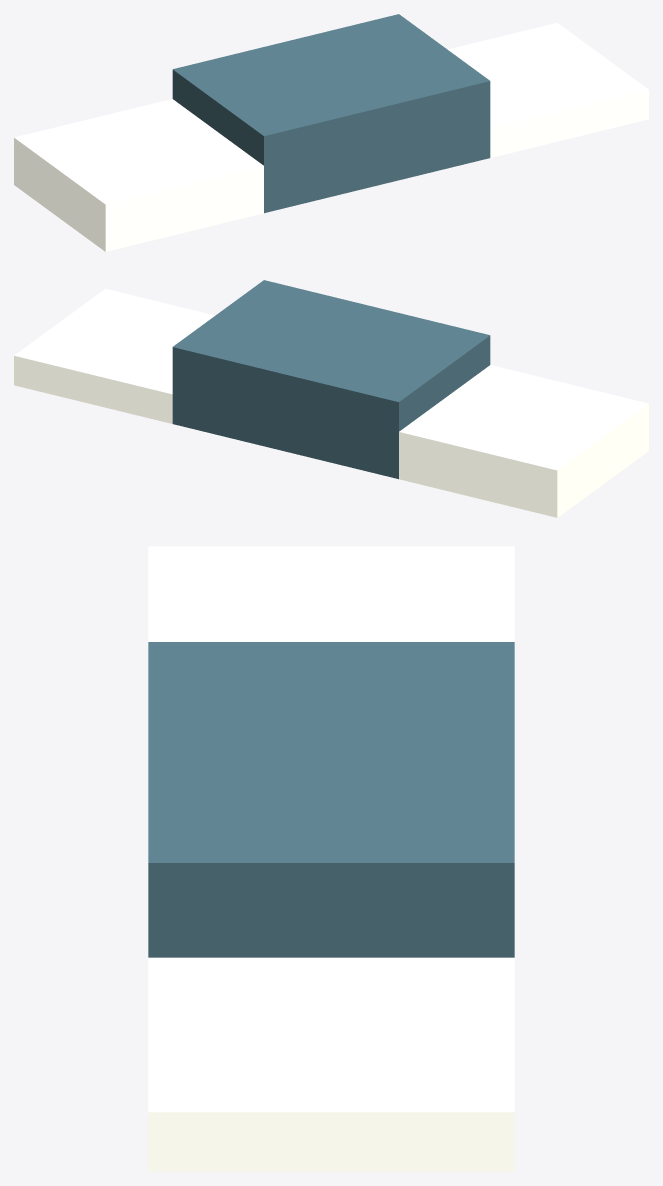
File: endurance-and-gt-paddock-wide-podium-08d709f4.glb
3 views of the same model, one above another, from view 1: azimuth 30°, elevation 25°; view 2: azimuth 150°, elevation 25°; view 3: azimuth 270°, elevation 25° (orthographic). The views are drawn at different scales.
Parts seen in each view (by area): view 1: wide-podium; view 2: wide-podium; view 3: wide-podium.
Part boxes in pixels (x1,y1,x2,y2): wide-podium: [14, 14, 648, 251]; wide-podium: [14, 280, 648, 517]; wide-podium: [148, 546, 514, 1171].
Size of the model in its own units: 4.8 by 0.6501 by 1.4.
